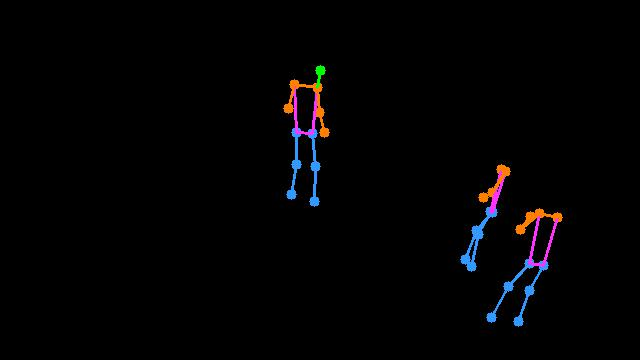normal: (450, 143, 571, 339), (261, 41, 350, 227)
